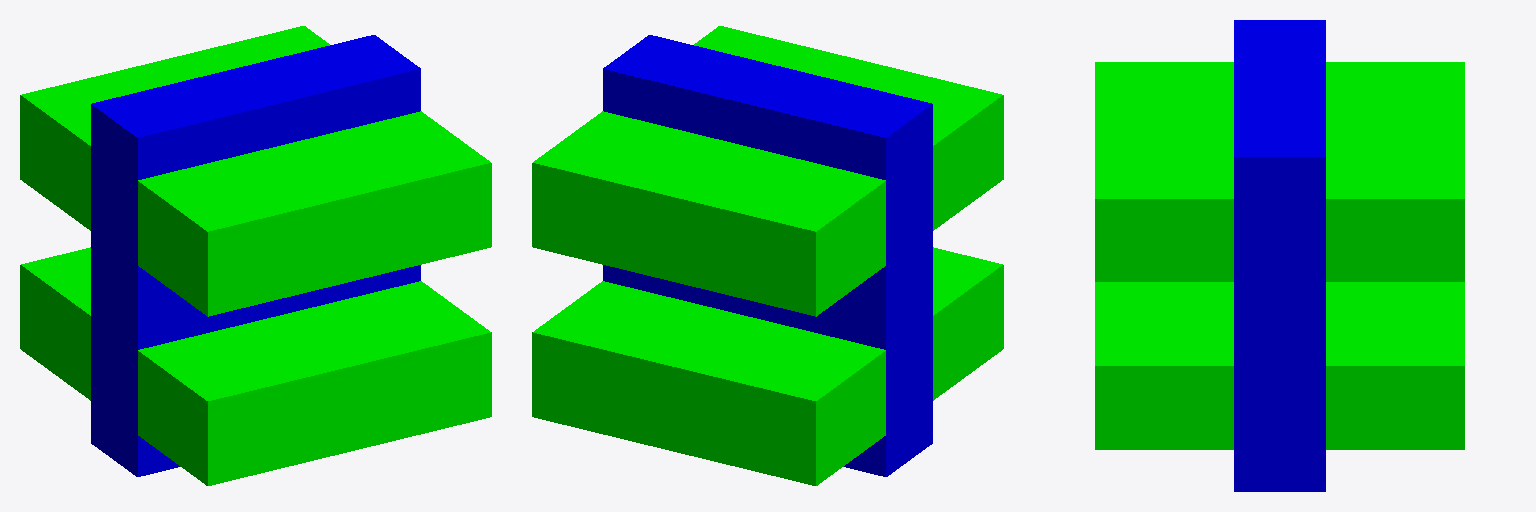
URDF robot description (robot):
<robot name = "robot">
    <link name="root">
        <inertial>
            <origin xyz="0.0 0.0 1.5" rpy="0 0 0"/>
            <mass value="1" />
            <inertia ixx="100" ixy="0" ixz="0" iyy="100" iyz="0" izz="100" />
        </inertial>
        <visual>
            <origin xyz="0.0 0.0 1.5" rpy="0 0 0"/>
            <geometry>
                <box size="0 0 0.0001" />
            </geometry>
            <material name="Green">
                <color rgba="0 1.0 0.0 1.0"/>
            </material>
        </visual>
        <collision>
            <origin xyz="0.0 0.0 1.5" rpy="0 0 0"/>
            <geometry>
                <box size="0 0 0.0001" />
            </geometry>
        </collision>
    </link>
    <joint name="root_000" type="revolute">
       <parent link="root"/>
       <child  link="000"/>
       <origin rpy="0 0 0" xyz="0.0 0.0 1.5" />
     <axis xyz="1 0 0"/>
       <limit effort="0.0" lower="-3.14159" upper="3.14159" velocity="0.0"/>
    </joint>
    <link name="000">
        <inertial>
            <origin xyz="0.0 0.0 -0.2" rpy="0 0 0"/>
            <mass value="1" />
            <inertia ixx="100" ixy="0" ixz="0" iyy="100" iyz="0" izz="100" />
        </inertial>
        <visual>
            <origin xyz="0.0 0.0 -0.2" rpy="0 0 0"/>
            <geometry>
                <box size="0.7 0.2 0.4" />
            </geometry>
            <material name="Blue">
                <color rgba="0 0.0 1.0 1.0"/>
            </material>
        </visual>
        <collision>
            <origin xyz="0.0 0.0 -0.2" rpy="0 0 0"/>
            <geometry>
                <box size="0.7 0.2 0.4" />
            </geometry>
        </collision>
    </link>
    <joint name="000_010" type="revolute">
       <parent link="000"/>
       <child  link="010"/>
       <origin rpy="0 0 0" xyz="0.0 0.0 -0.4" />
     <axis xyz="0 0 1"/>
       <limit effort="0.0" lower="-3.14159" upper="3.14159" velocity="0.0"/>
    </joint>
    <link name="010">
        <inertial>
            <origin xyz="0.0 0.0 -0.2" rpy="0 0 0"/>
            <mass value="1" />
            <inertia ixx="100" ixy="0" ixz="0" iyy="100" iyz="0" izz="100" />
        </inertial>
        <visual>
            <origin xyz="0.0 0.0 -0.2" rpy="0 0 0"/>
            <geometry>
                <box size="0.7 0.2 0.4" />
            </geometry>
            <material name="Blue">
                <color rgba="0 0.0 1.0 1.0"/>
            </material>
        </visual>
        <collision>
            <origin xyz="0.0 0.0 -0.2" rpy="0 0 0"/>
            <geometry>
                <box size="0.7 0.2 0.4" />
            </geometry>
        </collision>
    </link>
    <joint name="010_010-100" type="revolute">
       <parent link="010"/>
       <child  link="010-100"/>
       <origin rpy="0 0 0" xyz="0.0 0.1 -0.2" />
     <axis xyz="0 1 0"/>
       <limit effort="0.0" lower="-3.14159" upper="3.14159" velocity="0.0"/>
    </joint>
    <link name="010-100">
        <inertial>
            <origin xyz="0.0 0.05 -0.0" rpy="0 0 0"/>
            <mass value="1" />
            <inertia ixx="100" ixy="0" ixz="0" iyy="100" iyz="0" izz="100" />
        </inertial>
        <visual>
            <origin xyz="0.0 0.05 -0.0" rpy="0 0 0"/>
            <geometry>
                <box size="0.7 0.1 0.2" />
            </geometry>
            <material name="Green">
                <color rgba="0 1.0 0.0 1.0"/>
            </material>
        </visual>
        <collision>
            <origin xyz="0.0 0.05 -0.0" rpy="0 0 0"/>
            <geometry>
                <box size="0.7 0.1 0.2" />
            </geometry>
        </collision>
    </link>
    <joint name="010-100_010-110" type="revolute">
       <parent link="010-100"/>
       <child  link="010-110"/>
       <origin rpy="0 0 0" xyz="0.0 0.1 -0.0" />
     <axis xyz="0 1 0"/>
       <limit effort="0.0" lower="-3.14159" upper="3.14159" velocity="0.0"/>
    </joint>
    <link name="010-110">
        <inertial>
            <origin xyz="0.0 0.05 -0.0" rpy="0 0 0"/>
            <mass value="1" />
            <inertia ixx="100" ixy="0" ixz="0" iyy="100" iyz="0" izz="100" />
        </inertial>
        <visual>
            <origin xyz="0.0 0.05 -0.0" rpy="0 0 0"/>
            <geometry>
                <box size="0.7 0.1 0.2" />
            </geometry>
            <material name="Green">
                <color rgba="0 1.0 0.0 1.0"/>
            </material>
        </visual>
        <collision>
            <origin xyz="0.0 0.05 -0.0" rpy="0 0 0"/>
            <geometry>
                <box size="0.7 0.1 0.2" />
            </geometry>
        </collision>
    </link>
    <joint name="010-110_010-120" type="revolute">
       <parent link="010-110"/>
       <child  link="010-120"/>
       <origin rpy="0 0 0" xyz="0.0 0.1 -0.0" />
     <axis xyz="0 1 0"/>
       <limit effort="0.0" lower="-3.14159" upper="3.14159" velocity="0.0"/>
    </joint>
    <link name="010-120">
        <inertial>
            <origin xyz="0.0 0.05 -0.0" rpy="0 0 0"/>
            <mass value="1" />
            <inertia ixx="100" ixy="0" ixz="0" iyy="100" iyz="0" izz="100" />
        </inertial>
        <visual>
            <origin xyz="0.0 0.05 -0.0" rpy="0 0 0"/>
            <geometry>
                <box size="0.7 0.1 0.2" />
            </geometry>
            <material name="Green">
                <color rgba="0 1.0 0.0 1.0"/>
            </material>
        </visual>
        <collision>
            <origin xyz="0.0 0.05 -0.0" rpy="0 0 0"/>
            <geometry>
                <box size="0.7 0.1 0.2" />
            </geometry>
        </collision>
    </link>
    <joint name="010_010-101" type="revolute">
       <parent link="010"/>
       <child  link="010-101"/>
       <origin rpy="0 0 0" xyz="0.0 -0.1 -0.2" />
     <axis xyz="0 1 0"/>
       <limit effort="0.0" lower="-3.14159" upper="3.14159" velocity="0.0"/>
    </joint>
    <link name="010-101">
        <inertial>
            <origin xyz="0.0 -0.05 -0.0" rpy="0 0 0"/>
            <mass value="1" />
            <inertia ixx="100" ixy="0" ixz="0" iyy="100" iyz="0" izz="100" />
        </inertial>
        <visual>
            <origin xyz="0.0 -0.05 -0.0" rpy="0 0 0"/>
            <geometry>
                <box size="0.7 0.1 0.2" />
            </geometry>
            <material name="Green">
                <color rgba="0 1.0 0.0 1.0"/>
            </material>
        </visual>
        <collision>
            <origin xyz="0.0 -0.05 -0.0" rpy="0 0 0"/>
            <geometry>
                <box size="0.7 0.1 0.2" />
            </geometry>
        </collision>
    </link>
    <joint name="010-101_010-111" type="revolute">
       <parent link="010-101"/>
       <child  link="010-111"/>
       <origin rpy="0 0 0" xyz="0.0 -0.1 -0.0" />
     <axis xyz="0 1 0"/>
       <limit effort="0.0" lower="-3.14159" upper="3.14159" velocity="0.0"/>
    </joint>
    <link name="010-111">
        <inertial>
            <origin xyz="0.0 -0.05 -0.0" rpy="0 0 0"/>
            <mass value="1" />
            <inertia ixx="100" ixy="0" ixz="0" iyy="100" iyz="0" izz="100" />
        </inertial>
        <visual>
            <origin xyz="0.0 -0.05 -0.0" rpy="0 0 0"/>
            <geometry>
                <box size="0.7 0.1 0.2" />
            </geometry>
            <material name="Green">
                <color rgba="0 1.0 0.0 1.0"/>
            </material>
        </visual>
        <collision>
            <origin xyz="0.0 -0.05 -0.0" rpy="0 0 0"/>
            <geometry>
                <box size="0.7 0.1 0.2" />
            </geometry>
        </collision>
    </link>
    <joint name="010-111_010-121" type="revolute">
       <parent link="010-111"/>
       <child  link="010-121"/>
       <origin rpy="0 0 0" xyz="0.0 -0.1 -0.0" />
     <axis xyz="0 1 0"/>
       <limit effort="0.0" lower="-3.14159" upper="3.14159" velocity="0.0"/>
    </joint>
    <link name="010-121">
        <inertial>
            <origin xyz="0.0 -0.05 -0.0" rpy="0 0 0"/>
            <mass value="1" />
            <inertia ixx="100" ixy="0" ixz="0" iyy="100" iyz="0" izz="100" />
        </inertial>
        <visual>
            <origin xyz="0.0 -0.05 -0.0" rpy="0 0 0"/>
            <geometry>
                <box size="0.7 0.1 0.2" />
            </geometry>
            <material name="Green">
                <color rgba="0 1.0 0.0 1.0"/>
            </material>
        </visual>
        <collision>
            <origin xyz="0.0 -0.05 -0.0" rpy="0 0 0"/>
            <geometry>
                <box size="0.7 0.1 0.2" />
            </geometry>
        </collision>
    </link>
    <joint name="000_000-100" type="revolute">
       <parent link="000"/>
       <child  link="000-100"/>
       <origin rpy="0 0 0" xyz="0.0 0.1 -0.2" />
     <axis xyz="0 1 0"/>
       <limit effort="0.0" lower="-3.14159" upper="3.14159" velocity="0.0"/>
    </joint>
    <link name="000-100">
        <inertial>
            <origin xyz="0.0 0.05 -0.0" rpy="0 0 0"/>
            <mass value="1" />
            <inertia ixx="100" ixy="0" ixz="0" iyy="100" iyz="0" izz="100" />
        </inertial>
        <visual>
            <origin xyz="0.0 0.05 -0.0" rpy="0 0 0"/>
            <geometry>
                <box size="0.7 0.1 0.2" />
            </geometry>
            <material name="Green">
                <color rgba="0 1.0 0.0 1.0"/>
            </material>
        </visual>
        <collision>
            <origin xyz="0.0 0.05 -0.0" rpy="0 0 0"/>
            <geometry>
                <box size="0.7 0.1 0.2" />
            </geometry>
        </collision>
    </link>
    <joint name="000-100_000-110" type="revolute">
       <parent link="000-100"/>
       <child  link="000-110"/>
       <origin rpy="0 0 0" xyz="0.0 0.1 -0.0" />
     <axis xyz="0 1 0"/>
       <limit effort="0.0" lower="-3.14159" upper="3.14159" velocity="0.0"/>
    </joint>
    <link name="000-110">
        <inertial>
            <origin xyz="0.0 0.05 -0.0" rpy="0 0 0"/>
            <mass value="1" />
            <inertia ixx="100" ixy="0" ixz="0" iyy="100" iyz="0" izz="100" />
        </inertial>
        <visual>
            <origin xyz="0.0 0.05 -0.0" rpy="0 0 0"/>
            <geometry>
                <box size="0.7 0.1 0.2" />
            </geometry>
            <material name="Green">
                <color rgba="0 1.0 0.0 1.0"/>
            </material>
        </visual>
        <collision>
            <origin xyz="0.0 0.05 -0.0" rpy="0 0 0"/>
            <geometry>
                <box size="0.7 0.1 0.2" />
            </geometry>
        </collision>
    </link>
    <joint name="000-110_000-120" type="revolute">
       <parent link="000-110"/>
       <child  link="000-120"/>
       <origin rpy="0 0 0" xyz="0.0 0.1 -0.0" />
     <axis xyz="0 1 0"/>
       <limit effort="0.0" lower="-3.14159" upper="3.14159" velocity="0.0"/>
    </joint>
    <link name="000-120">
        <inertial>
            <origin xyz="0.0 0.05 -0.0" rpy="0 0 0"/>
            <mass value="1" />
            <inertia ixx="100" ixy="0" ixz="0" iyy="100" iyz="0" izz="100" />
        </inertial>
        <visual>
            <origin xyz="0.0 0.05 -0.0" rpy="0 0 0"/>
            <geometry>
                <box size="0.7 0.1 0.2" />
            </geometry>
            <material name="Green">
                <color rgba="0 1.0 0.0 1.0"/>
            </material>
        </visual>
        <collision>
            <origin xyz="0.0 0.05 -0.0" rpy="0 0 0"/>
            <geometry>
                <box size="0.7 0.1 0.2" />
            </geometry>
        </collision>
    </link>
    <joint name="000_000-101" type="revolute">
       <parent link="000"/>
       <child  link="000-101"/>
       <origin rpy="0 0 0" xyz="0.0 -0.1 -0.2" />
     <axis xyz="0 1 0"/>
       <limit effort="0.0" lower="-3.14159" upper="3.14159" velocity="0.0"/>
    </joint>
    <link name="000-101">
        <inertial>
            <origin xyz="0.0 -0.05 -0.0" rpy="0 0 0"/>
            <mass value="1" />
            <inertia ixx="100" ixy="0" ixz="0" iyy="100" iyz="0" izz="100" />
        </inertial>
        <visual>
            <origin xyz="0.0 -0.05 -0.0" rpy="0 0 0"/>
            <geometry>
                <box size="0.7 0.1 0.2" />
            </geometry>
            <material name="Green">
                <color rgba="0 1.0 0.0 1.0"/>
            </material>
        </visual>
        <collision>
            <origin xyz="0.0 -0.05 -0.0" rpy="0 0 0"/>
            <geometry>
                <box size="0.7 0.1 0.2" />
            </geometry>
        </collision>
    </link>
    <joint name="000-101_000-111" type="revolute">
       <parent link="000-101"/>
       <child  link="000-111"/>
       <origin rpy="0 0 0" xyz="0.0 -0.1 -0.0" />
     <axis xyz="0 1 0"/>
       <limit effort="0.0" lower="-3.14159" upper="3.14159" velocity="0.0"/>
    </joint>
    <link name="000-111">
        <inertial>
            <origin xyz="0.0 -0.05 -0.0" rpy="0 0 0"/>
            <mass value="1" />
            <inertia ixx="100" ixy="0" ixz="0" iyy="100" iyz="0" izz="100" />
        </inertial>
        <visual>
            <origin xyz="0.0 -0.05 -0.0" rpy="0 0 0"/>
            <geometry>
                <box size="0.7 0.1 0.2" />
            </geometry>
            <material name="Green">
                <color rgba="0 1.0 0.0 1.0"/>
            </material>
        </visual>
        <collision>
            <origin xyz="0.0 -0.05 -0.0" rpy="0 0 0"/>
            <geometry>
                <box size="0.7 0.1 0.2" />
            </geometry>
        </collision>
    </link>
    <joint name="000-111_000-121" type="revolute">
       <parent link="000-111"/>
       <child  link="000-121"/>
       <origin rpy="0 0 0" xyz="0.0 -0.1 -0.0" />
     <axis xyz="0 1 0"/>
       <limit effort="0.0" lower="-3.14159" upper="3.14159" velocity="0.0"/>
    </joint>
    <link name="000-121">
        <inertial>
            <origin xyz="0.0 -0.05 -0.0" rpy="0 0 0"/>
            <mass value="1" />
            <inertia ixx="100" ixy="0" ixz="0" iyy="100" iyz="0" izz="100" />
        </inertial>
        <visual>
            <origin xyz="0.0 -0.05 -0.0" rpy="0 0 0"/>
            <geometry>
                <box size="0.7 0.1 0.2" />
            </geometry>
            <material name="Green">
                <color rgba="0 1.0 0.0 1.0"/>
            </material>
        </visual>
        <collision>
            <origin xyz="0.0 -0.05 -0.0" rpy="0 0 0"/>
            <geometry>
                <box size="0.7 0.1 0.2" />
            </geometry>
        </collision>
    </link>
</robot>

--- What the picture shows (computed from the rendered views, not written in the file) ---
The picture shows the robot from 3 angles, left to right: view 1: azimuth 30°, elevation 25°; view 2: azimuth 150°, elevation 25°; view 3: azimuth 270°, elevation 25°; orthographic projection.
Robot: robot — 15 links, 14 joints (14 revolute); root link root; default pose: every joint at zero.
Visible links, largest first — view 1: 000, 010-121, 000-121, 010, 000-120, 000-111, 010-111, 010-101, 000-101, 000-110, 010-120, 010-110 (+2 smaller); view 2: 000, 010-120, 000-120, 010, 000-121, 000-110, 010-110, 010-100, 000-100, 000-111, 010-121, 010-111 (+2 smaller); view 3: 000, 010, 000-120, 000-121, 000-100, 000-110, 000-101, 000-111, 010-120, 010-121, 010-100, 010-110 (+2 smaller).
Boxes of the visible links, x1,y1,x2,y2 form: 000: (91, 35, 420, 307); 010-121: (184, 315, 491, 485); 000-121: (184, 146, 491, 316); 010: (91, 265, 420, 476); 000-120: (20, 26, 326, 196); 000-111: (161, 128, 467, 298); 010-111: (161, 298, 466, 468); 010-101: (138, 281, 443, 451); 000-101: (138, 111, 443, 281); 000-110: (44, 43, 329, 212); 010-120: (20, 247, 90, 365); 010-110: (44, 270, 90, 382); 000: (603, 35, 932, 307); 010-120: (532, 315, 839, 485); 000-120: (532, 146, 839, 316); 010: (603, 265, 932, 476); 000-121: (697, 26, 1003, 196); 000-110: (556, 128, 862, 298); 010-110: (557, 298, 862, 468); 010-100: (580, 281, 885, 451); 000-100: (580, 111, 885, 281); 000-111: (694, 43, 979, 212); 010-121: (933, 247, 1003, 365); 010-111: (933, 270, 979, 382); 000: (1234, 20, 1325, 323); 010: (1234, 324, 1325, 491); 000-120: (1418, 62, 1464, 281); 000-121: (1095, 62, 1141, 281); 000-100: (1326, 62, 1371, 281); 000-110: (1372, 62, 1417, 281); 000-101: (1188, 62, 1233, 281); 000-111: (1142, 62, 1187, 281); 010-120: (1418, 282, 1464, 449); 010-121: (1095, 282, 1141, 449); 010-100: (1326, 282, 1371, 449); 010-110: (1372, 282, 1417, 449).
Bounding box of the posed robot: 0.7 × 0.8 × 0.8 m (x, y, z).
Geometry: primitives only (box / cylinder / sphere), no mesh files.